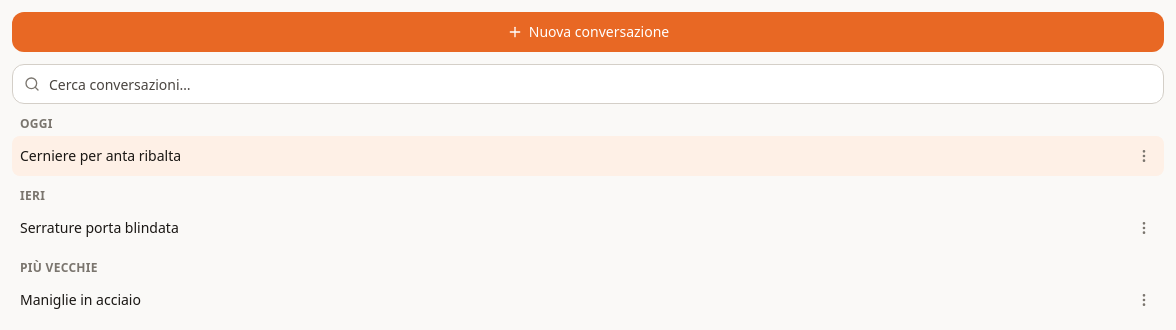
Test: ConversationsPanel › il menu si chiude su Escape
Click the button named "Azioni per Cerniere per anta ribalta".
click(1144, 156)  # box x1=1124 y1=136 x2=1164 y2=176
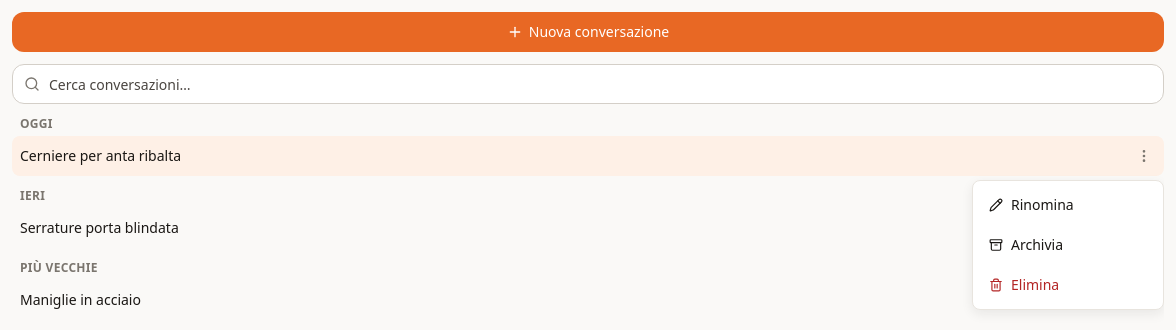
Expected: the menu is shown, x1=972 y1=180 x2=1164 y2=310
Press Escape
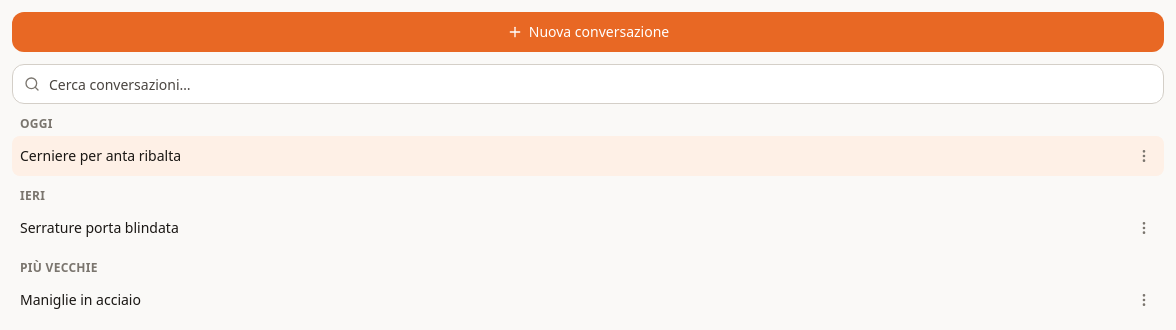
Expected: the menu is gone
